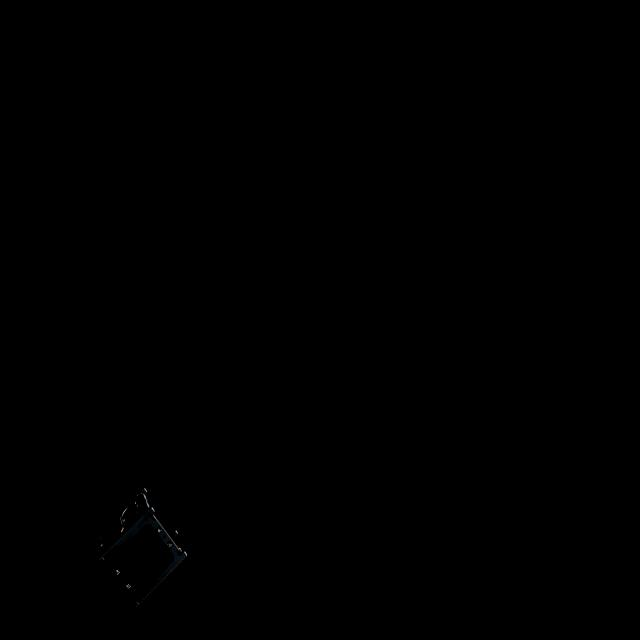satellite: (86, 494, 189, 606)
